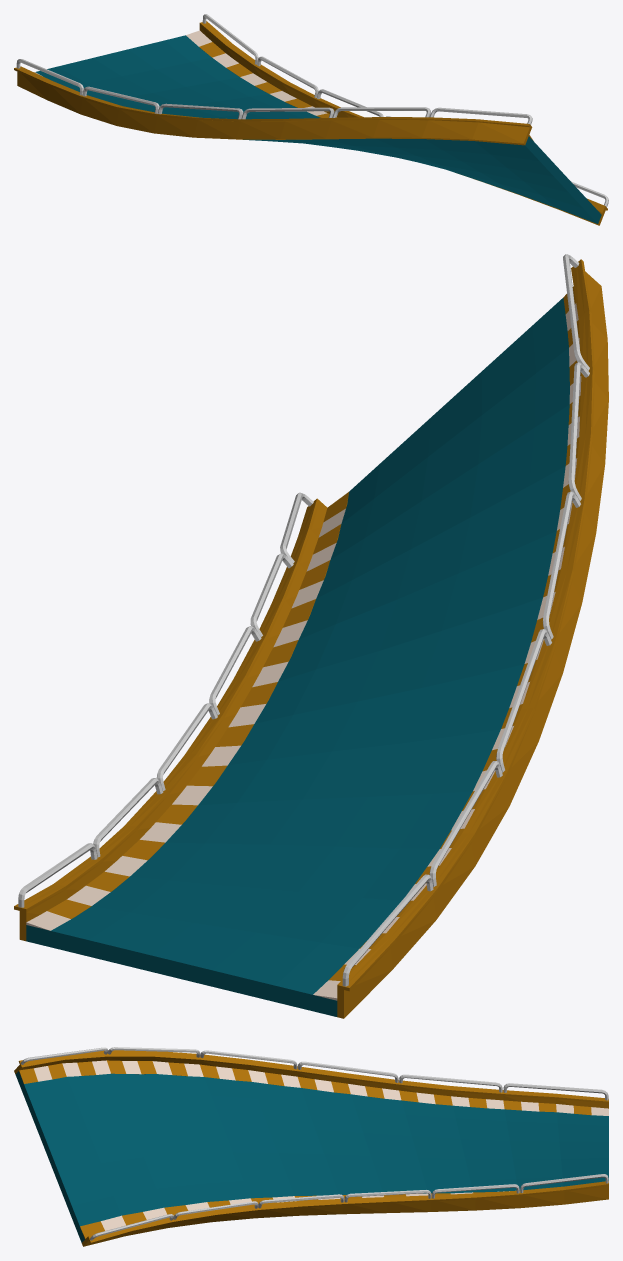
The model's file is curveLeft-30-Banked-45.FBX.
The picture shows the model from 3 angles, top to bottom: view 1: azimuth 30°, elevation 25°; view 2: azimuth 150°, elevation 25°; view 3: azimuth 270°, elevation 25°; orthographic projection. The views are drawn at different scales.
Visible parts, largest first — view 1: curveLeft-30-banked-45, wall_r, wall_l, curbs_l; view 2: curveLeft-30-banked-45, wall_r, wall_l, curbs_l, curbs_r; view 3: curveLeft-30-banked-45, wall_l, wall_r, curbs_r, curbs_l.
Part boxes in pixels (x1,y1,x2,y2): curveLeft-30-banked-45: (35,35,601,223); wall_r: (14,59,532,145); wall_l: (199,14,608,225); curbs_l: (186,30,601,214); curveLeft-30-banked-45: (26,298,569,1016); wall_r: (337,254,608,1018); wall_l: (14,492,327,941); curbs_l: (26,492,348,930); curbs_r: (313,286,581,1000); curveLeft-30-banked-45: (15,1071,608,1242); wall_l: (82,1174,608,1246); wall_r: (14,1047,608,1108); curbs_r: (19,1060,608,1115); curbs_l: (80,1191,509,1239).
Size of what is drawn, in the model's own units: 335 by 172 by 608.
